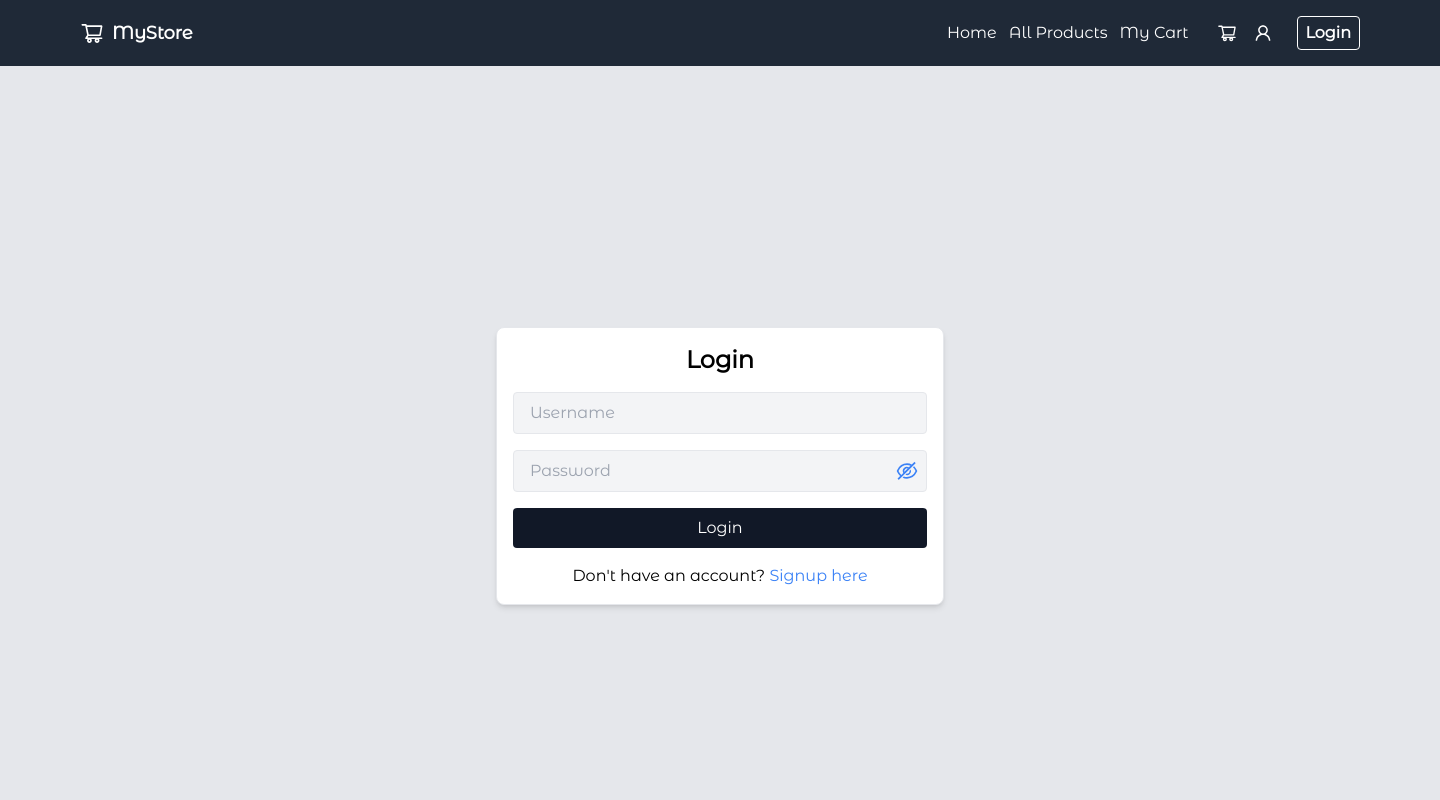
Test: login › attempt to login without inputting username
Type "Mojisola123" into the password field with placeholder "Password" at (720, 471), box 513,450 -> 927,492
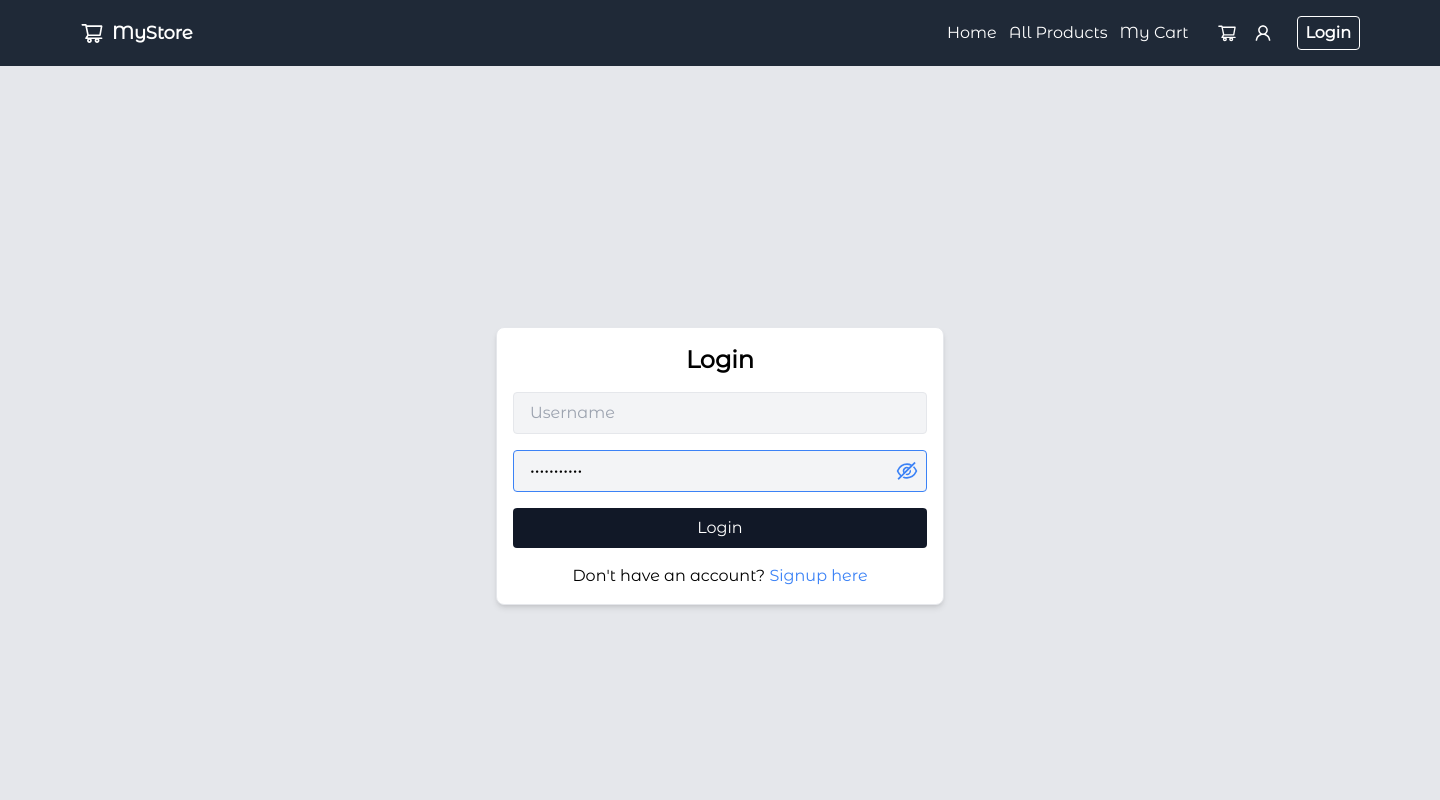
Click the submit button at (720, 528), box 513,508 -> 927,548
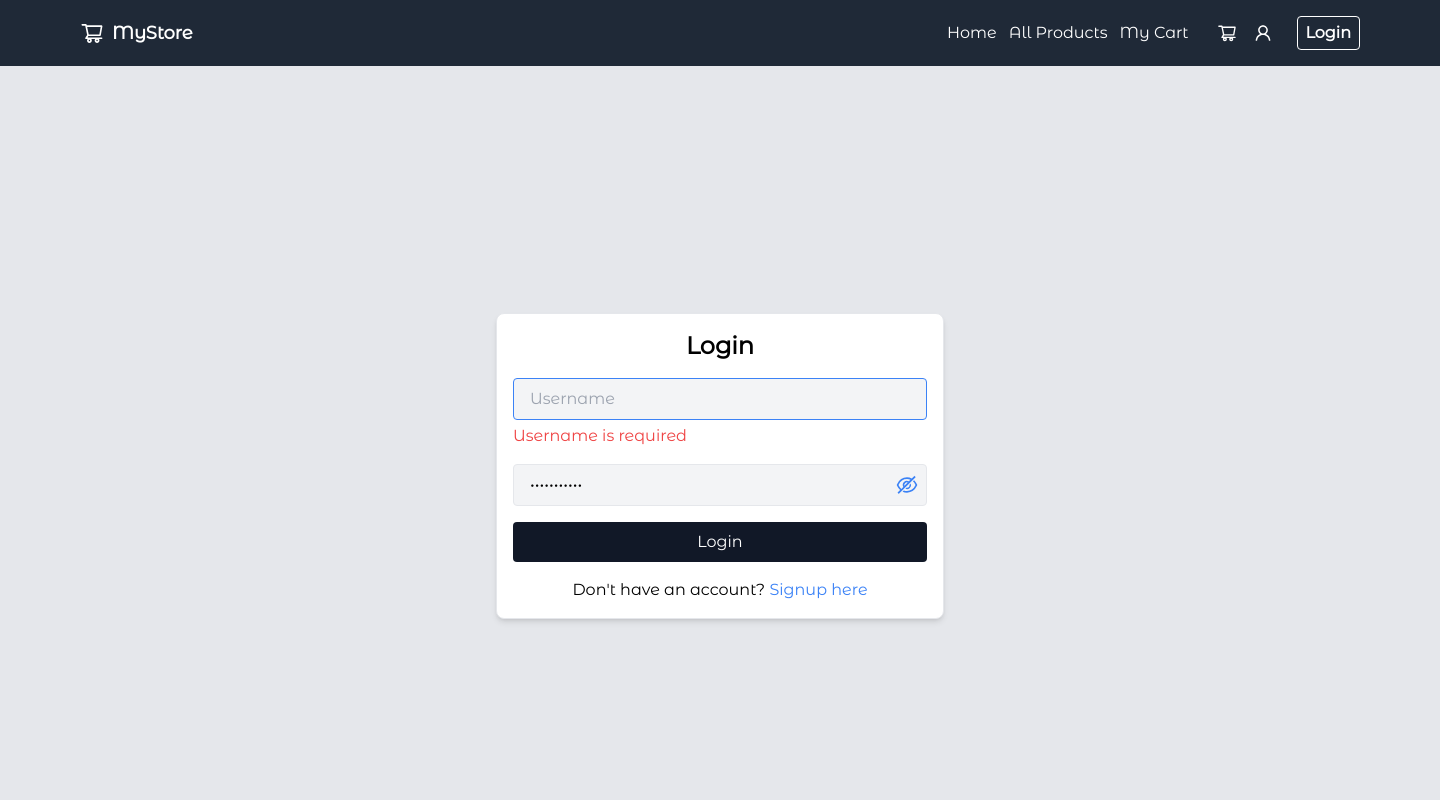
Expected: the text "Username is required" is shown, 513,426 -> 687,445
